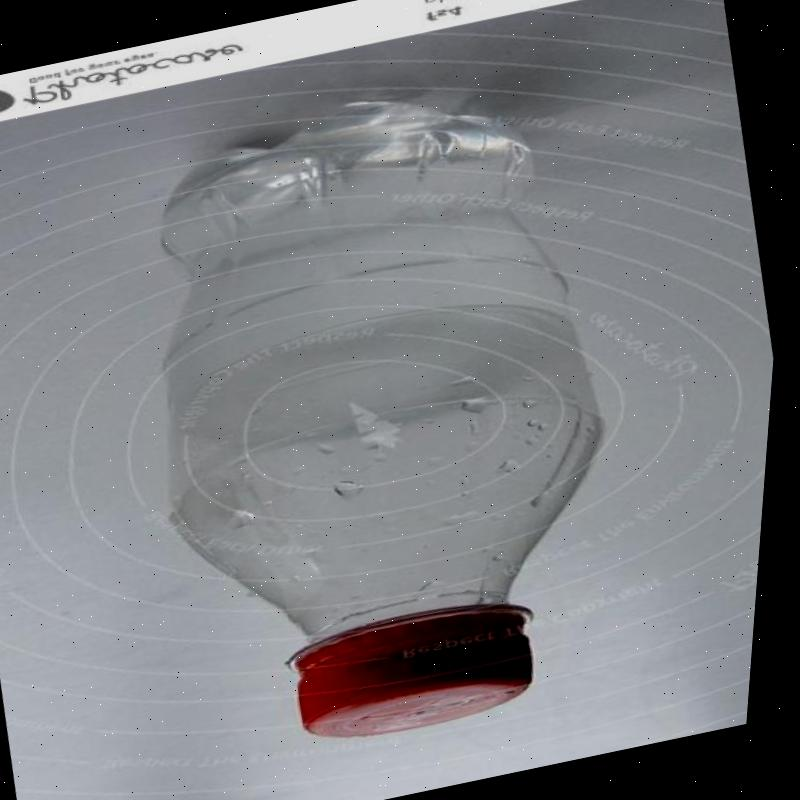botella: (92, 63, 686, 768)
